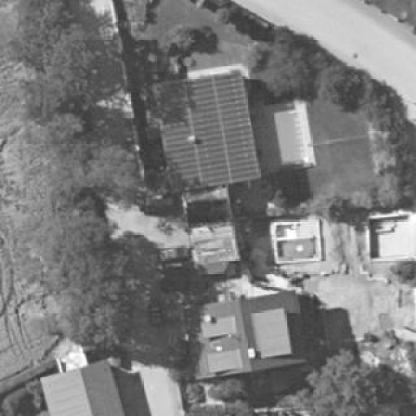solar-pv-panel: (252, 309, 291, 358), (207, 349, 241, 370), (202, 318, 236, 337)
